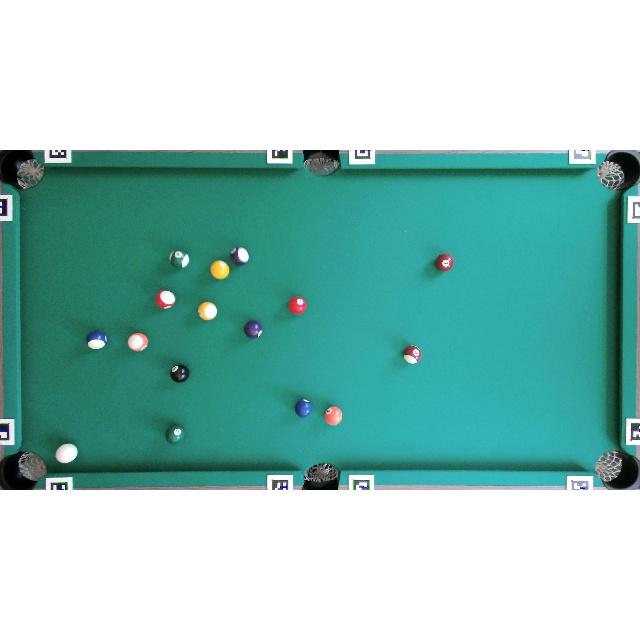cue ball: (55, 444, 78, 464)
other: (86, 330, 107, 350), (210, 260, 230, 280), (128, 332, 148, 352), (169, 249, 190, 268), (288, 296, 308, 315), (435, 253, 455, 272), (324, 406, 343, 426), (156, 290, 176, 309), (230, 246, 249, 265), (403, 345, 422, 364), (295, 398, 313, 418), (198, 302, 217, 320), (170, 364, 189, 382), (166, 426, 184, 444), (244, 321, 263, 338)
